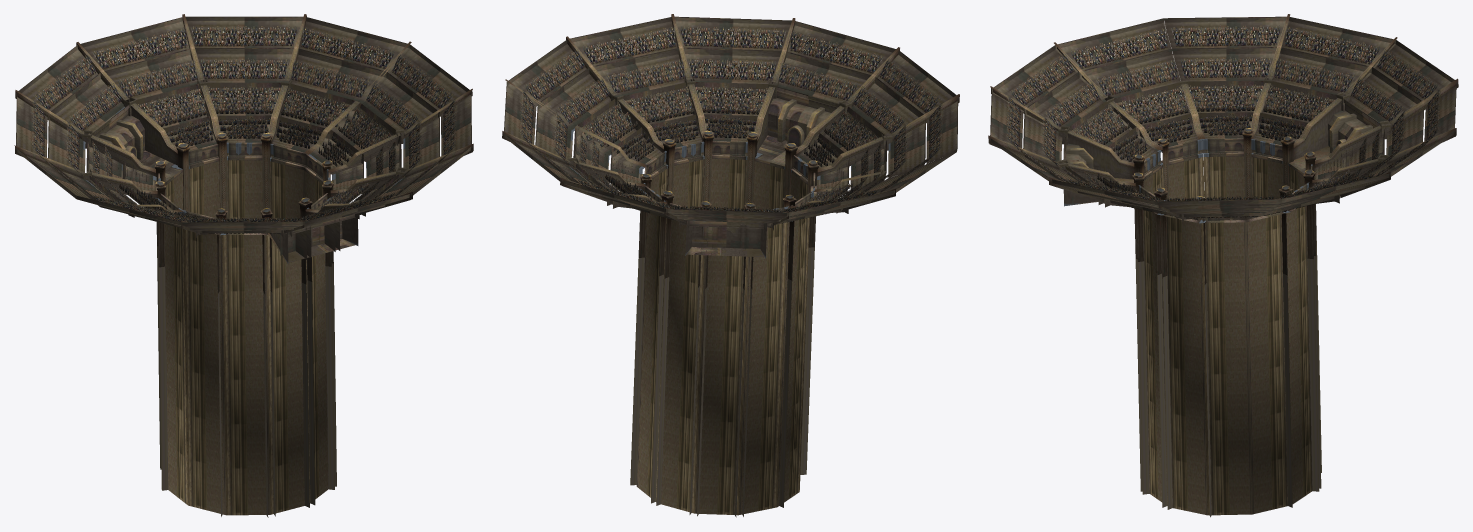
Rendered from ESTADIO.fbx.
The picture shows the model from 3 angles, left to right: view 1: azimuth 30°, elevation 25°; view 2: azimuth 150°, elevation 25°; view 3: azimuth 270°, elevation 25°; orthographic projection.
Parts seen in each view (by area): view 1: vsn_mesh_8_polySurface1274, vsn_mesh_3_flag2_01, vsn_mesh_7_polySurface1241, vsn_mesh_4_pCube322, vsn_mesh_5_polySurface1302; view 2: vsn_mesh_8_polySurface1274, vsn_mesh_3_flag2_01, vsn_mesh_7_polySurface1241, vsn_mesh_4_pCube322, vsn_mesh_5_polySurface1302; view 3: vsn_mesh_8_polySurface1274, vsn_mesh_7_polySurface1241, vsn_mesh_3_flag2_01, vsn_mesh_4_pCube322, vsn_mesh_5_polySurface1302.
Boxes of the visible parts, x1,y1,x2,y2 form: vsn_mesh_8_polySurface1274: [154, 135, 333, 515]; vsn_mesh_3_flag2_01: [81, 78, 406, 517]; vsn_mesh_7_polySurface1241: [14, 14, 473, 233]; vsn_mesh_4_pCube322: [31, 25, 456, 233]; vsn_mesh_5_polySurface1302: [118, 107, 370, 221]; vsn_mesh_8_polySurface1274: [636, 133, 818, 515]; vsn_mesh_3_flag2_01: [568, 77, 892, 517]; vsn_mesh_7_polySurface1241: [502, 14, 959, 225]; vsn_mesh_4_pCube322: [519, 26, 942, 223]; vsn_mesh_5_polySurface1302: [605, 106, 855, 212]; vsn_mesh_8_polySurface1274: [1132, 130, 1316, 515]; vsn_mesh_7_polySurface1241: [988, 14, 1458, 217]; vsn_mesh_3_flag2_01: [1057, 76, 1390, 517]; vsn_mesh_4_pCube322: [1006, 25, 1440, 218]; vsn_mesh_5_polySurface1302: [1097, 104, 1352, 199].
Size of the model in its own units: 30777 by 28046 by 31377.
